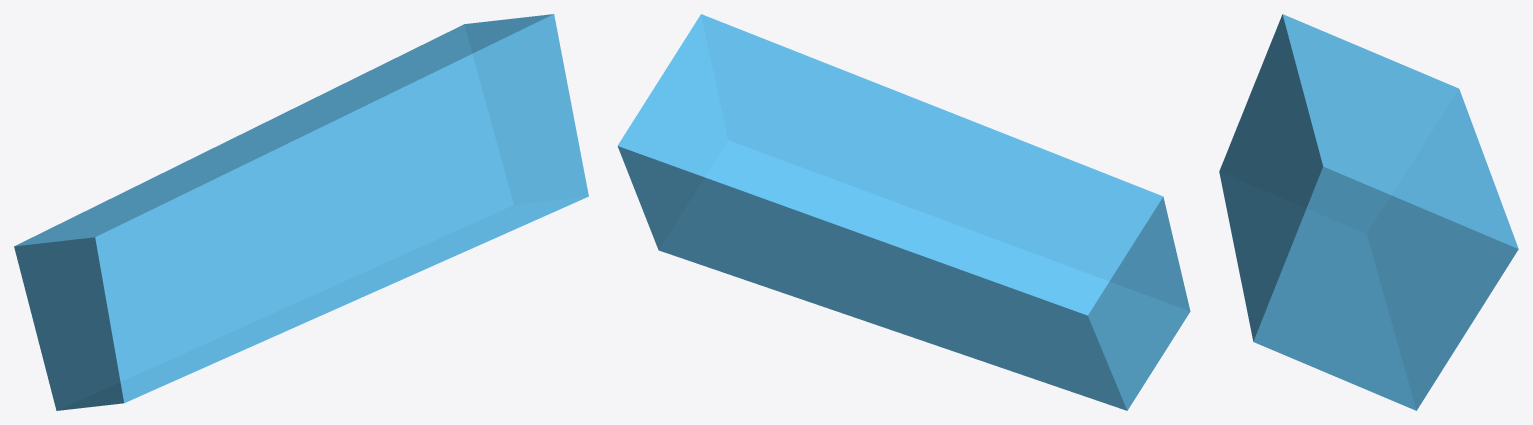
File: Event_421364160_HErechit_49.fbx
3 renders of one model, left to right at view 1: azimuth 30°, elevation 25°; view 2: azimuth 150°, elevation 25°; view 3: azimuth 270°, elevation 25°, orthographic. The views are drawn at different scales.
Parts seen in each view (by area): view 1: Model; view 2: Model; view 3: Model.
Boxes of the visible parts, x1,y1,x2,y2 form: Model: (14,14,588,410); Model: (617,14,1190,410); Model: (1219,14,1518,410).
Size of the model in its own units: 1.18 by 0.6954 by 0.5875.
